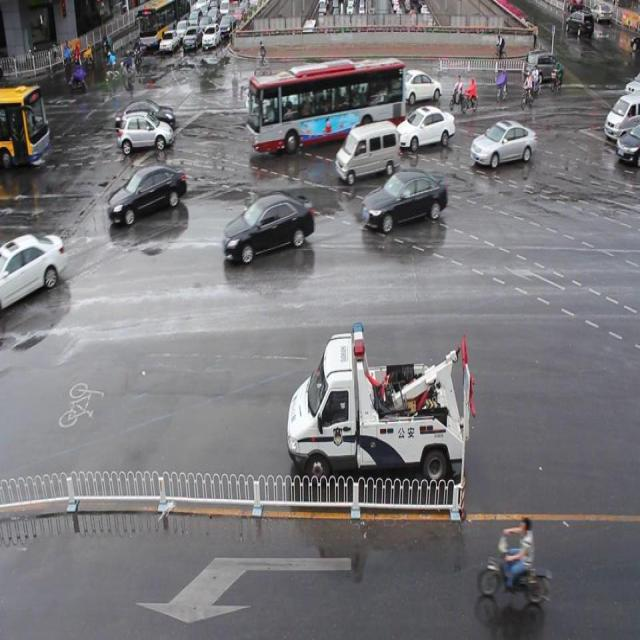bus: (286, 320, 475, 486)
car: (223, 192, 313, 263), (1, 230, 65, 314), (361, 171, 447, 230), (108, 165, 186, 222), (469, 118, 534, 168), (395, 107, 455, 148), (119, 114, 172, 152), (115, 102, 176, 131), (245, 80, 292, 117), (395, 68, 440, 103)
truck: (335, 121, 398, 184)
van: (248, 60, 406, 153)
